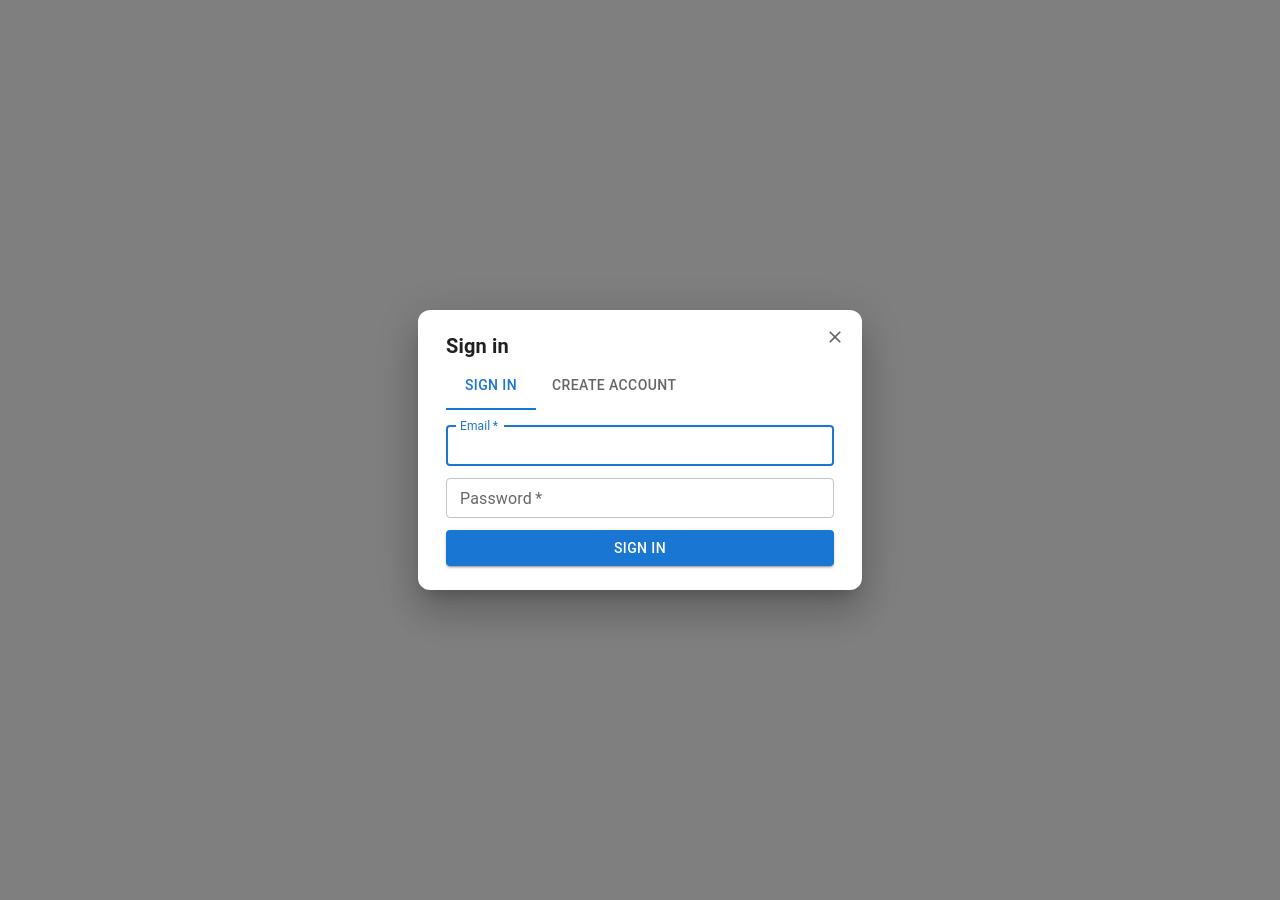
it: the sign in dialog › names a refused sign in and holds the dialog open
Type "ravi@cerulea.test" into the field labelled "Email *" at (640,446), box x1=446 y1=426 x2=834 y2=466
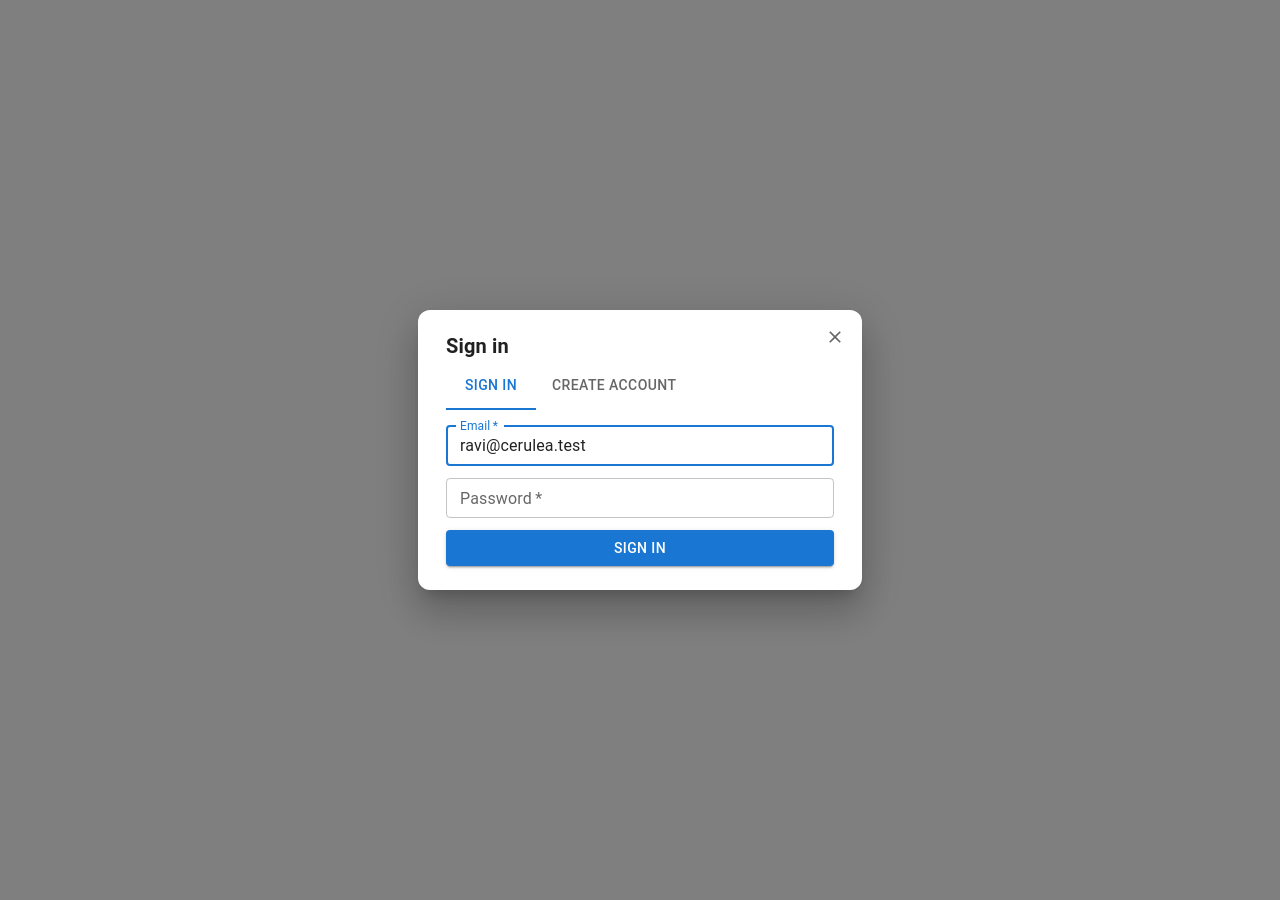
Type "wrong" into the password field labelled "Password *" at (640,498), box x1=446 y1=478 x2=834 y2=518
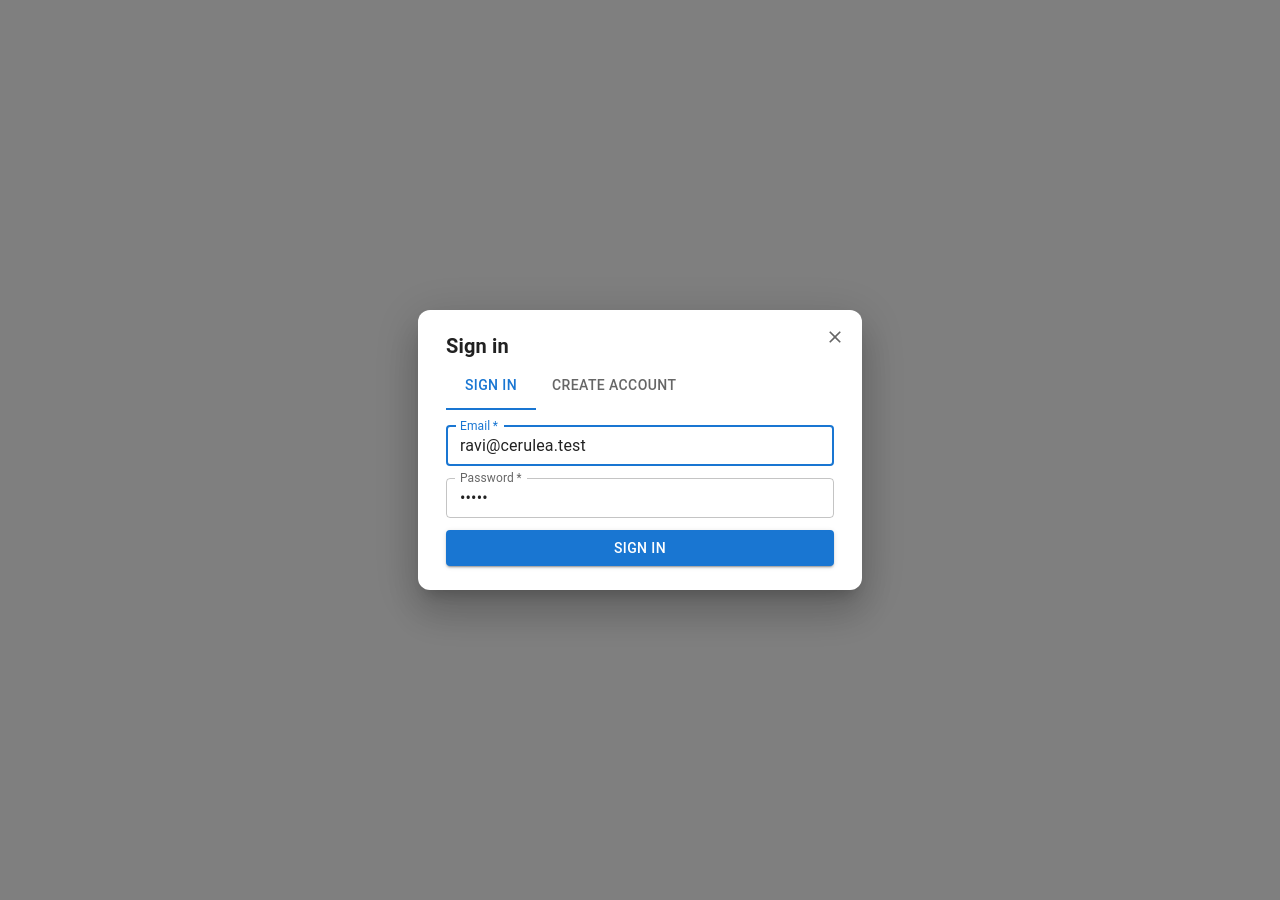
Click the button "Sign In" at (640,548), box x1=446 y1=530 x2=834 y2=566
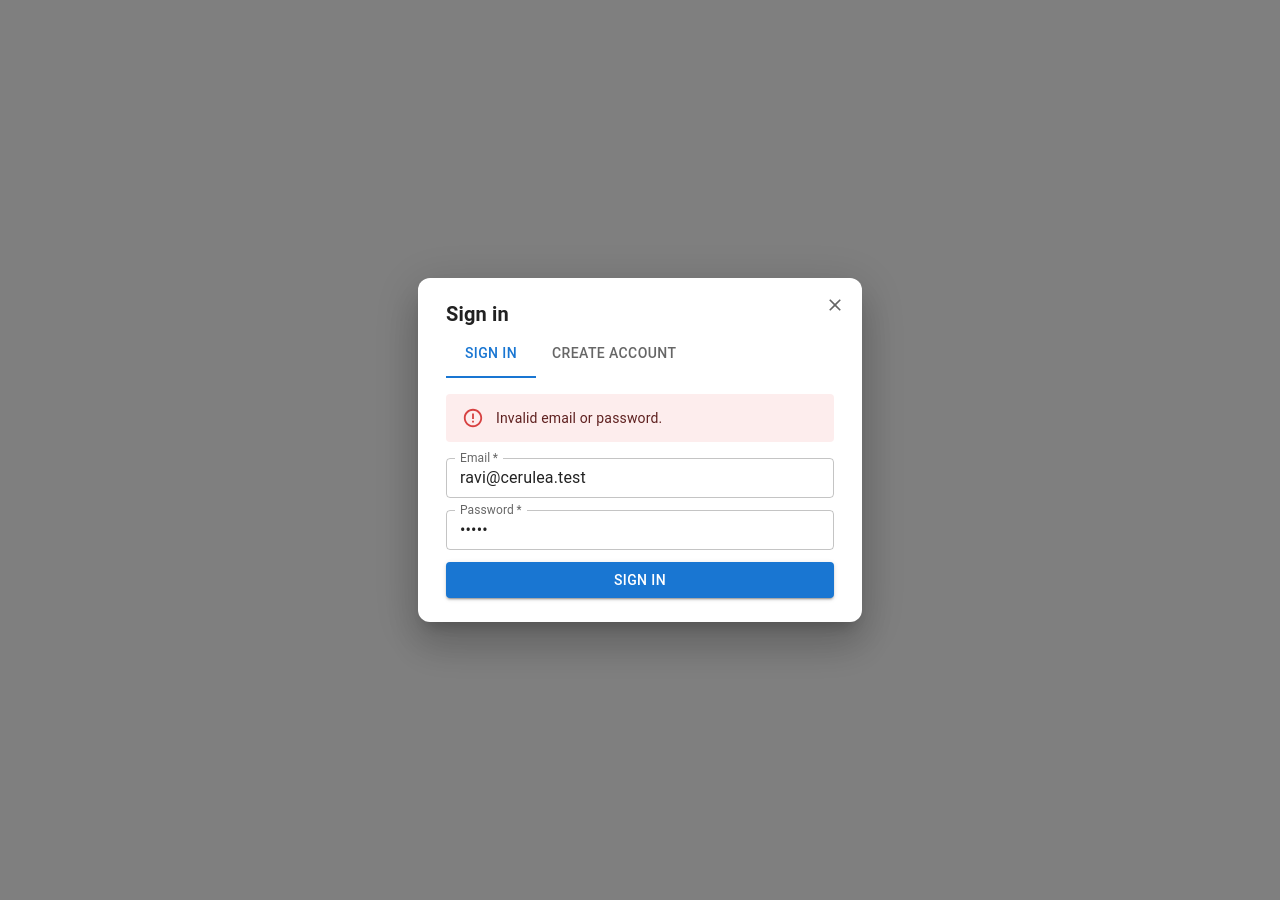
Expected: the text "Invalid email or password." is shown, x1=496 y1=410 x2=662 y2=426
Click the tab "Create Account" at (614,354), box x1=536 y1=330 x2=692 y2=378
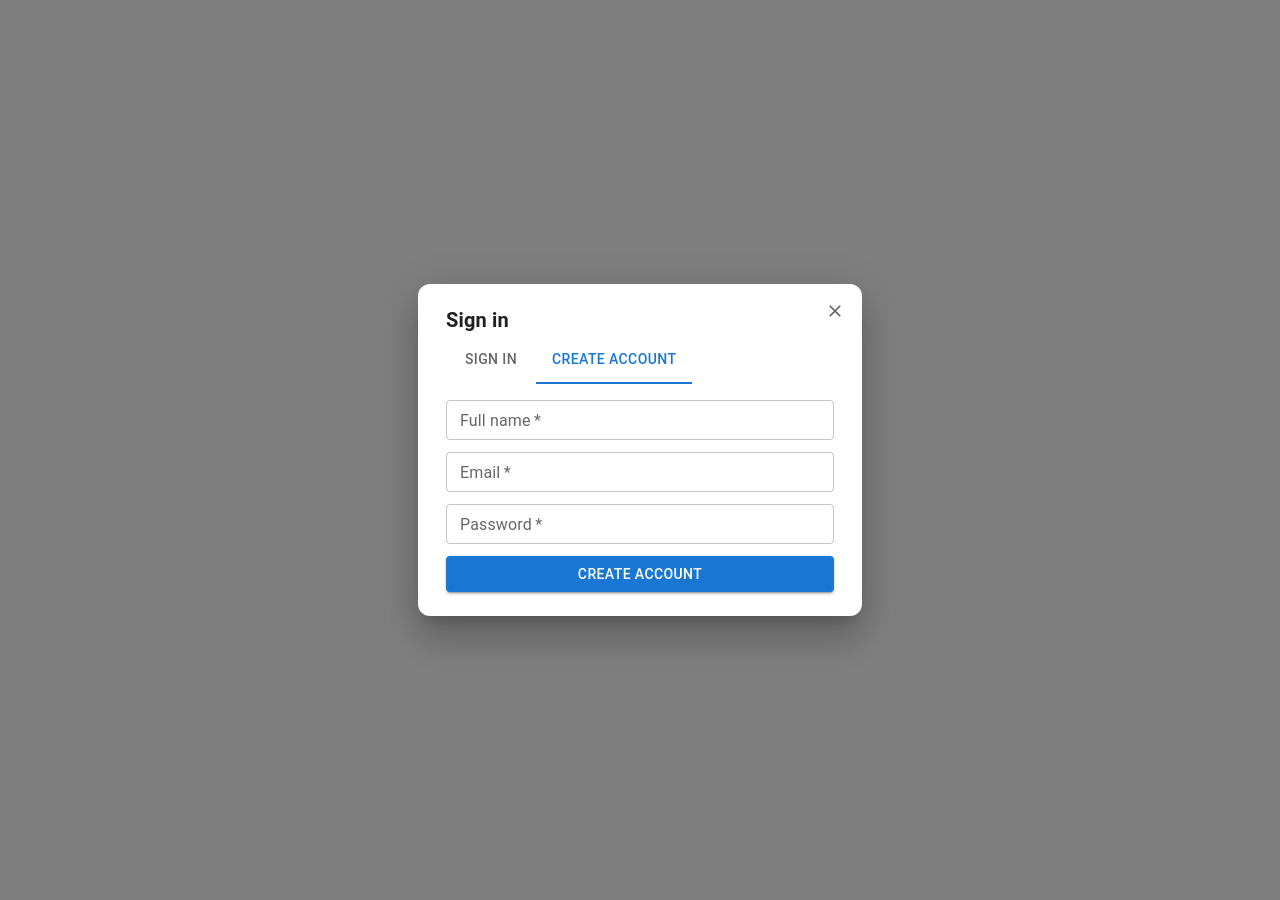
Expected: the text "Invalid email or password." is gone
